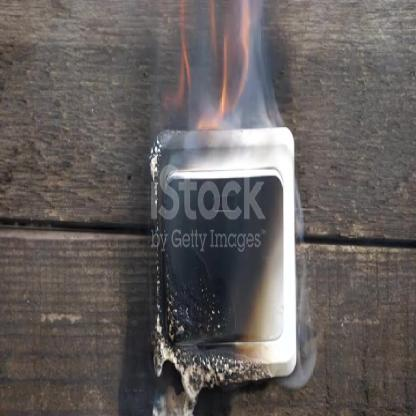fire: (161, 2, 249, 130)
smoke: (176, 9, 319, 392)
